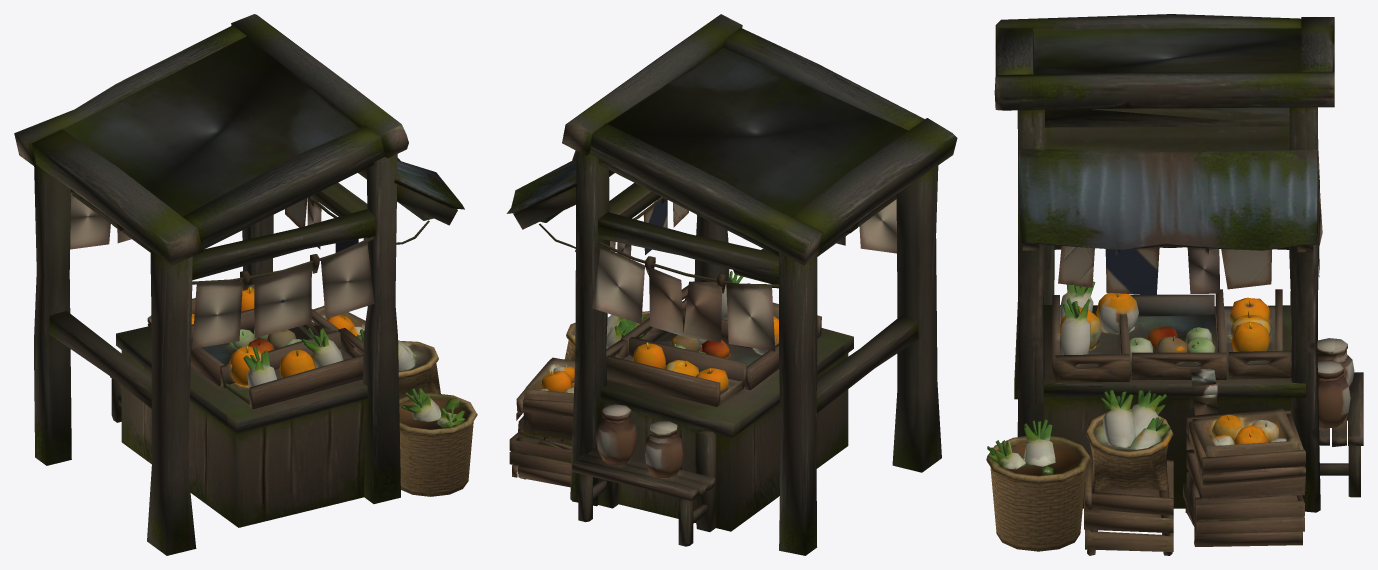
File: village_produce_stall.glb
The picture shows the model from 3 angles, left to right: view 1: azimuth 30°, elevation 25°; view 2: azimuth 150°, elevation 25°; view 3: azimuth 270°, elevation 25°; orthographic projection. The views are drawn at different scales.
Visible parts, largest first — view 1: tripo_node_5834e748-0970-4ad5-b91b-88af445f9dc5; view 2: tripo_node_5834e748-0970-4ad5-b91b-88af445f9dc5; view 3: tripo_node_5834e748-0970-4ad5-b91b-88af445f9dc5.
Boxes of the visible parts, left/top/right/bottom form: tripo_node_5834e748-0970-4ad5-b91b-88af445f9dc5: left=14, top=14, right=477, bottom=555; tripo_node_5834e748-0970-4ad5-b91b-88af445f9dc5: left=506, top=14, right=957, bottom=555; tripo_node_5834e748-0970-4ad5-b91b-88af445f9dc5: left=986, top=14, right=1363, bottom=555.
Size of the model in its own units: 0.8965 by 0.998 by 0.791.
Materials: 1 (1 with a texture image).
